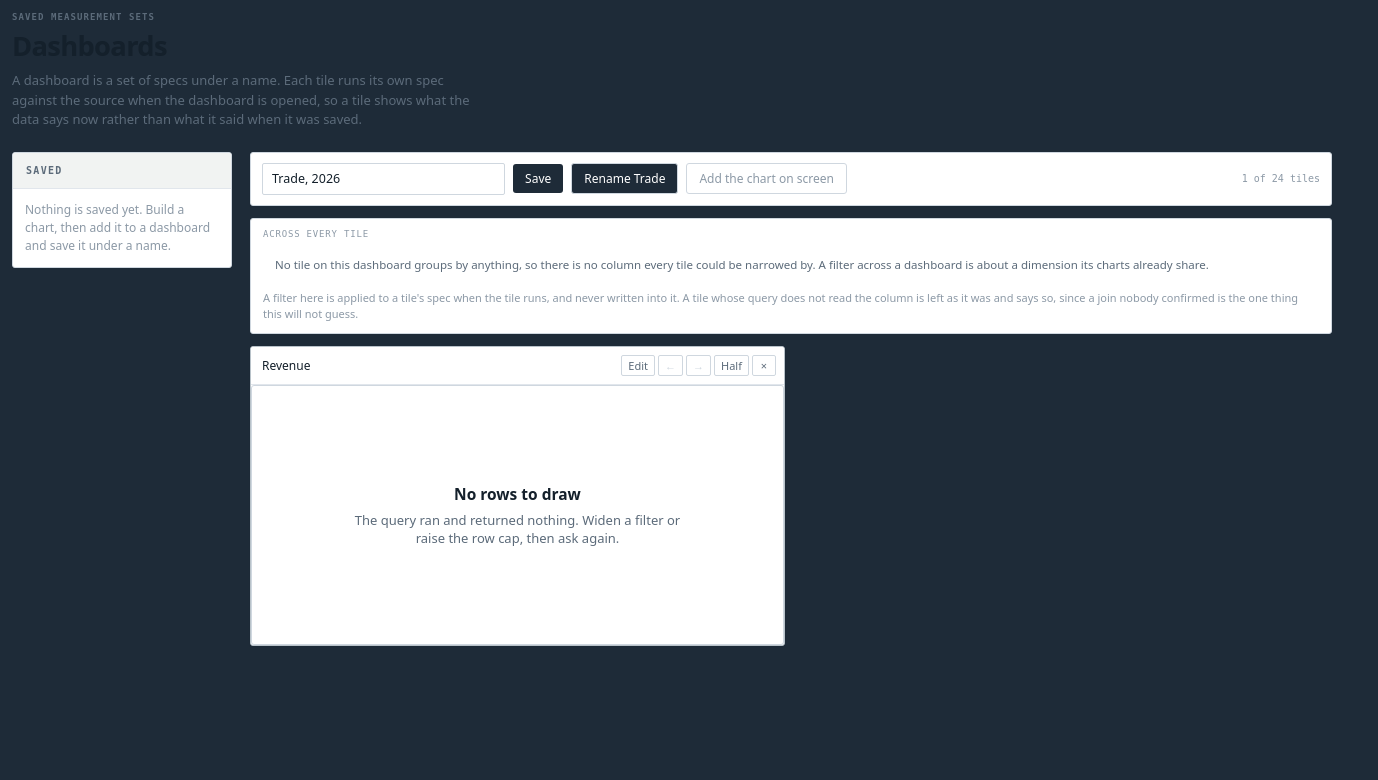
Test: renaming a dashboard › forgets nothing when the save under the new name is refused
Click the button "Rename Trade" at (625, 178), box [571, 163, 678, 194]
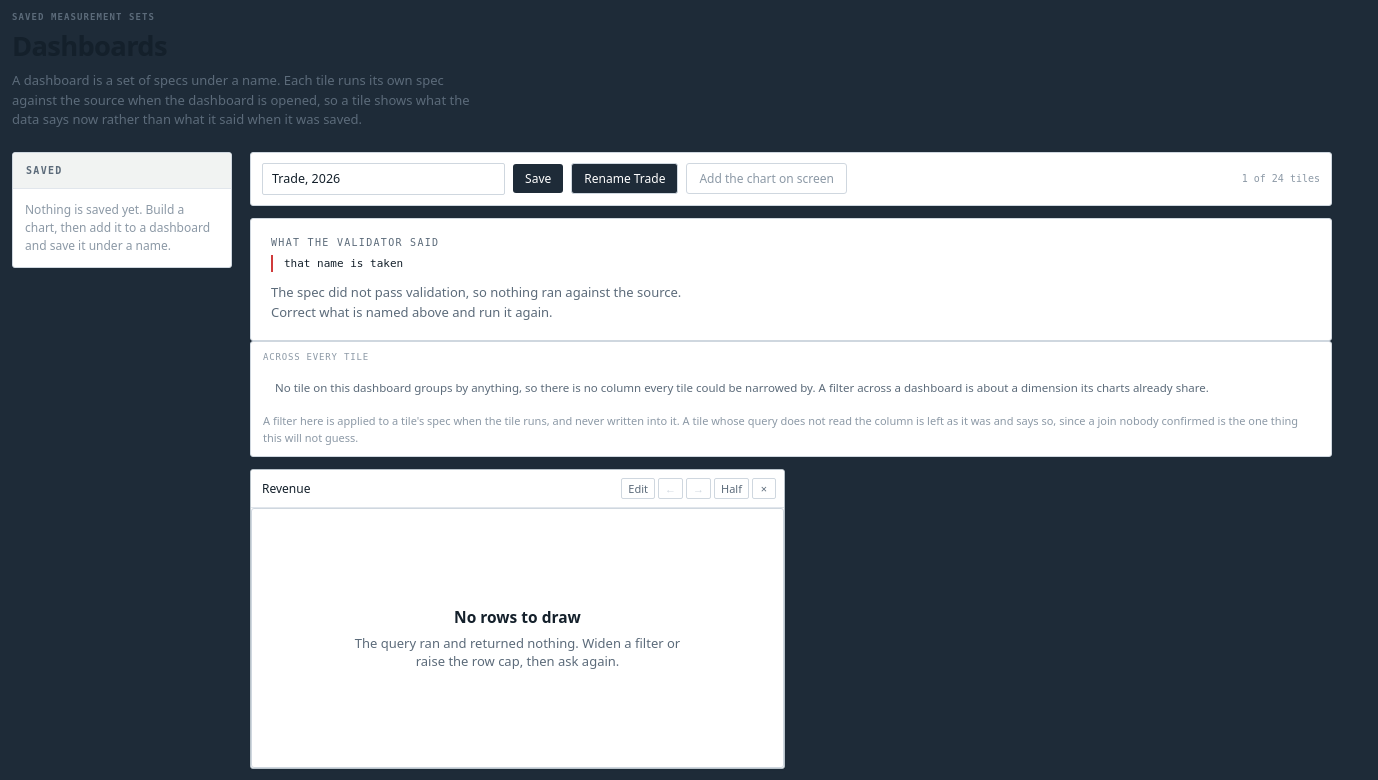
expect the list item "that name is taken" is shown: met, box [271, 254, 1311, 272]
